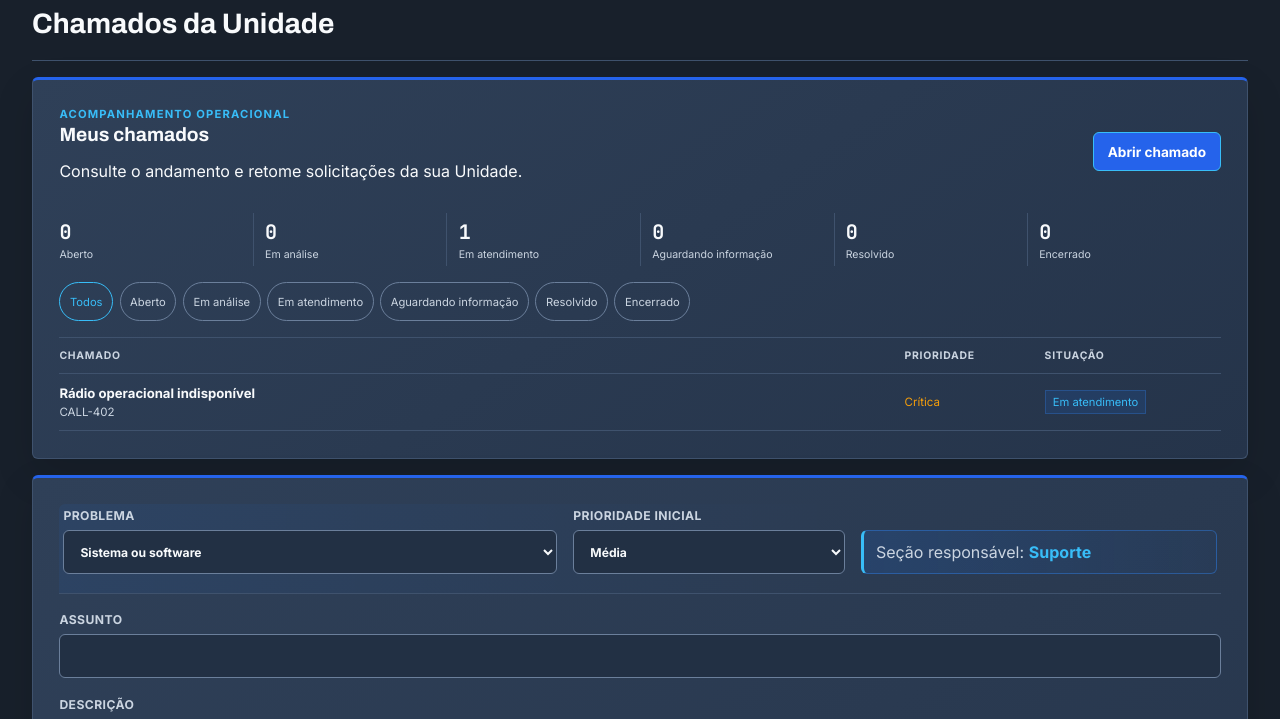
Test case: routes the selected problem automatically and never offers a section selector
The width and height of the screenshot is (1280, 719).
Select "Rádio ou comunicação" in the dropdown labelled "Problema" at (310, 552), box [63,530,557,574]
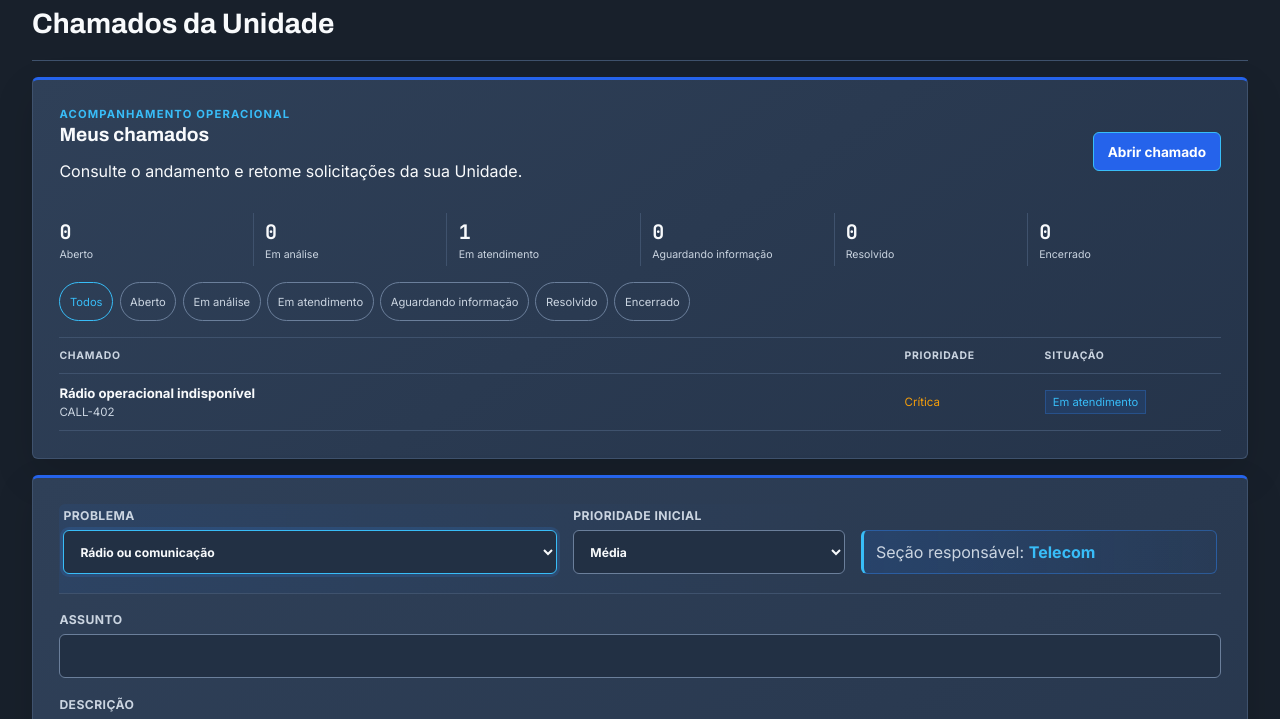
Check: the text "Telecom" reads "Seção responsável: Telecom", box [861,530,1217,574]
